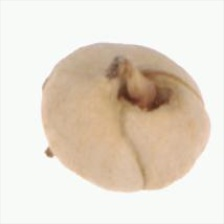L3: (108, 55, 177, 109)
L4: (40, 42, 211, 192)
